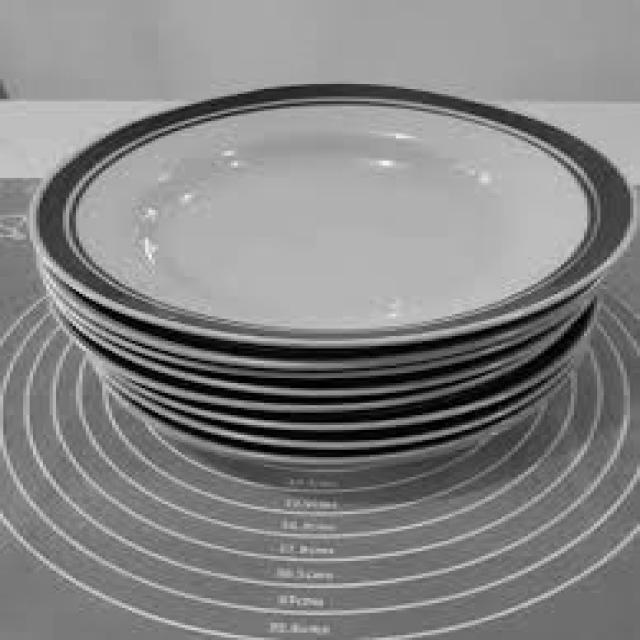dish: (19, 43, 635, 477)
